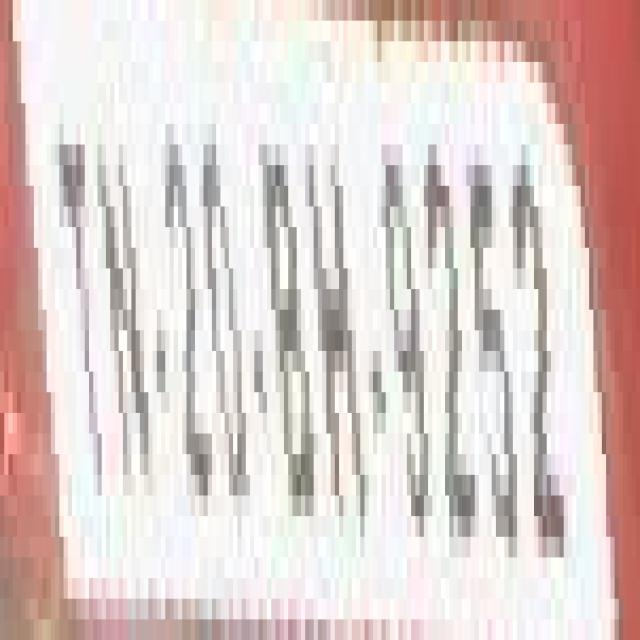license_plate: (0, 21, 606, 619)
